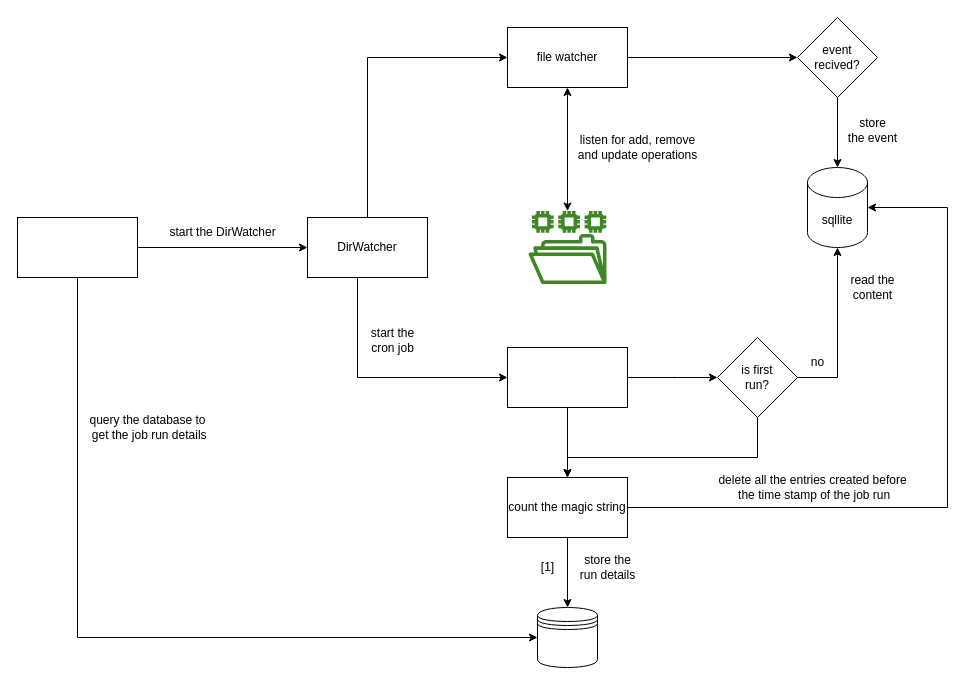
The diagram is 973 pixels wide and 685 high, and some of its shapes have lost their labels. Here are the shapes that lost their labels. From the top down, the centre of each, then its label:
At pixel 77 247: "API server".
At pixel 567 377: "cron job".
At pixel 567 637: "postgresql".
